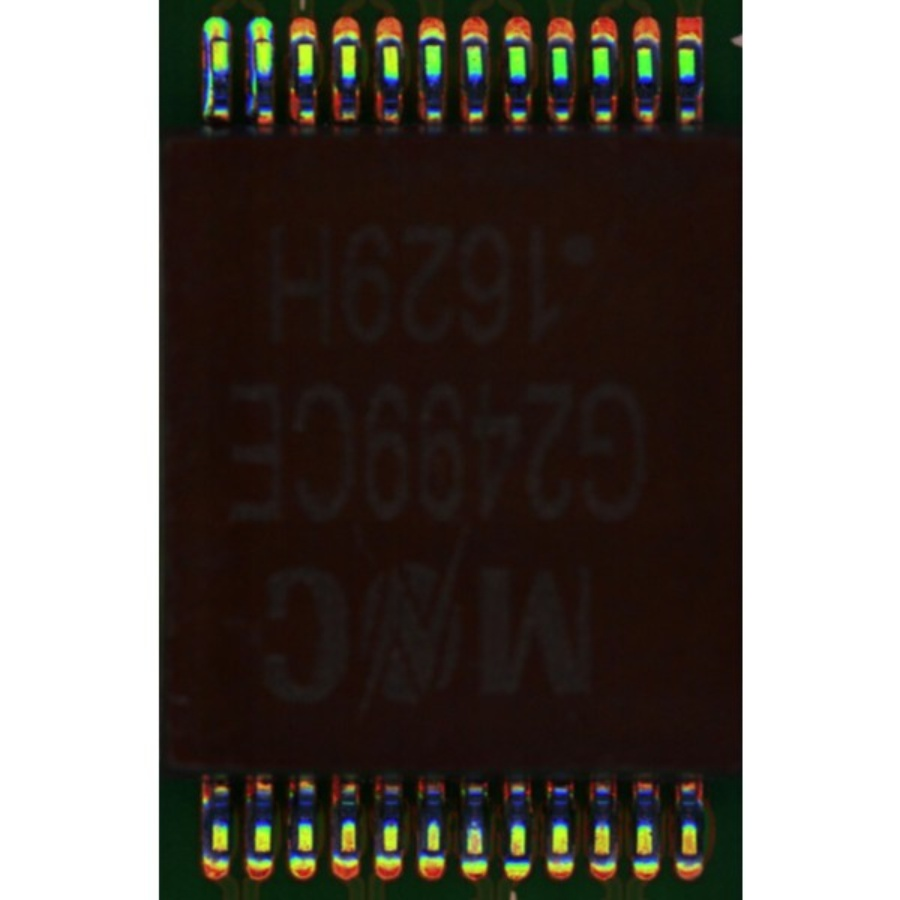Bad_podu: (211, 30, 226, 47), (254, 32, 269, 48)
Bad_qiaojiao: (247, 46, 258, 117), (203, 41, 213, 117)
